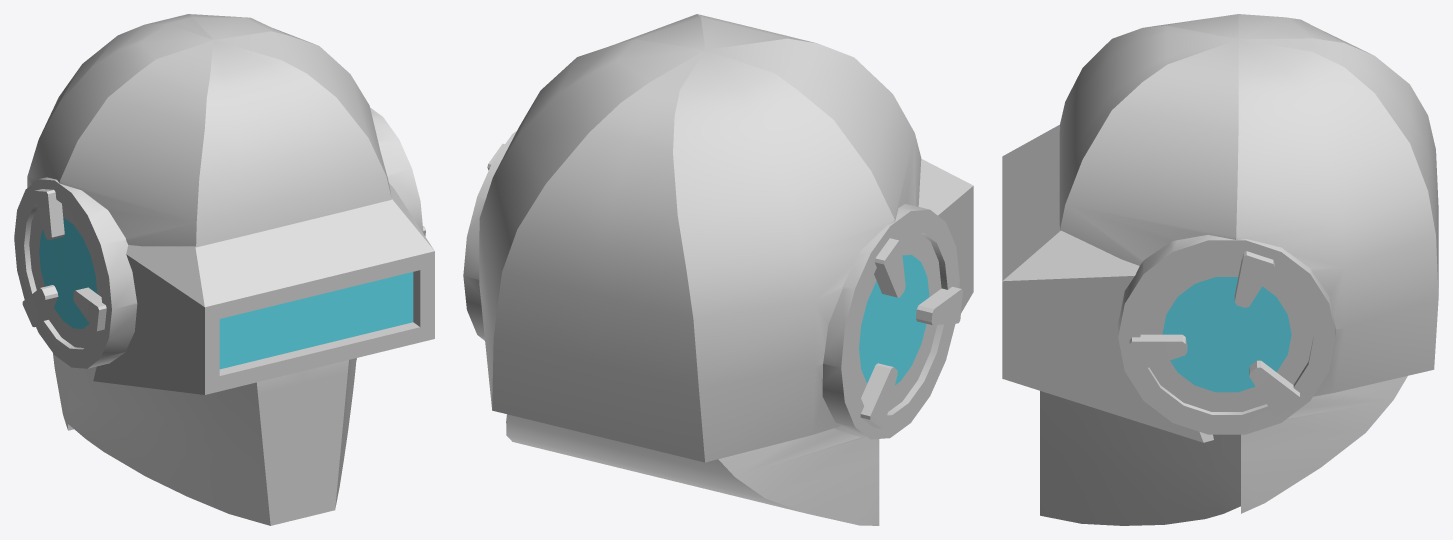
Rendered from Head_Brains.fbx.
The picture shows the model from 3 angles, left to right: view 1: azimuth 30°, elevation 25°; view 2: azimuth 150°, elevation 25°; view 3: azimuth 270°, elevation 25°; orthographic projection. The views are drawn at different scales.
Parts seen in each view (by area): view 1: Head_Brains; view 2: Head_Brains; view 3: Head_Brains.
Boxes of the visible parts, x1,y1,x2,y2 form: Head_Brains: (14,14,434,525); Head_Brains: (463,14,973,525); Head_Brains: (1002,14,1438,525).
Size of the model in its own units: 290 by 349 by 301.
